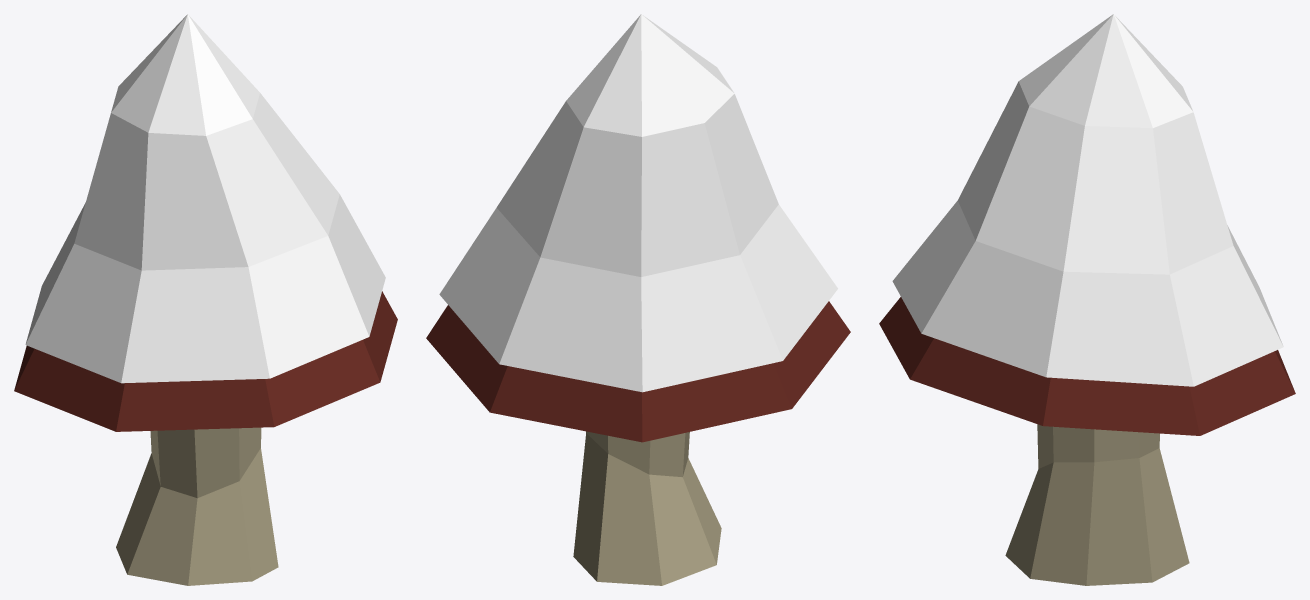
The model's file is mushroom 2.fbx.
3 views of the same model, side by side, from view 1: azimuth 30°, elevation 25°; view 2: azimuth 150°, elevation 25°; view 3: azimuth 270°, elevation 25° (orthographic).
Parts seen in each view (by area): view 1: Mushroom_02; view 2: Mushroom_02; view 3: Mushroom_02.
Part boxes in pixels (x1,y1,x2,y2): Mushroom_02: (14, 14, 397, 585); Mushroom_02: (426, 14, 850, 585); Mushroom_02: (879, 14, 1295, 585).
Size of the model in its own units: 71.52 by 110 by 75.79.
